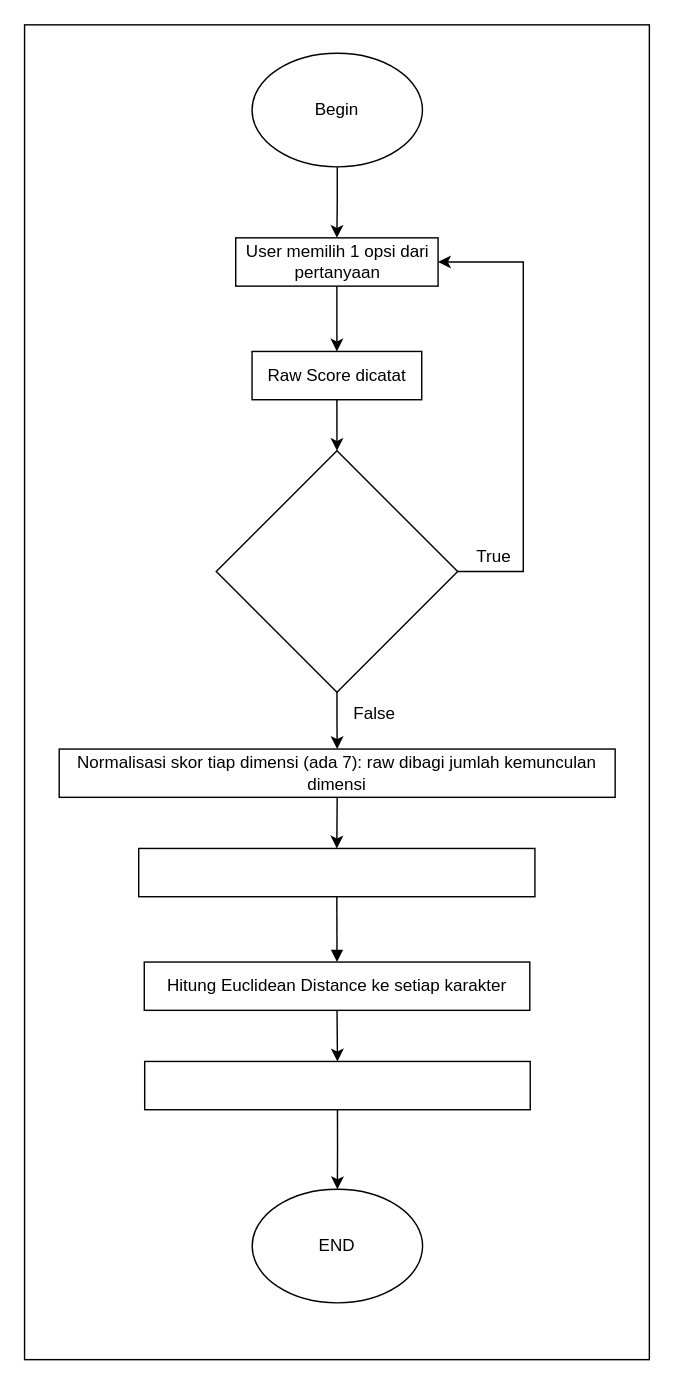
Image size: 675x1385. Some labels were removed from this diagram. The centre of each missing label's shape, as x and y in pixels:
"Catat karakter dengan euclidean distance terbesar" belongs at pixel 336 1085.
"Masih ada pertanyaan?" belongs at pixel 336 570.
"Membentuk Profil User berupa vektor 7 dimensi" belongs at pixel 336 872.
